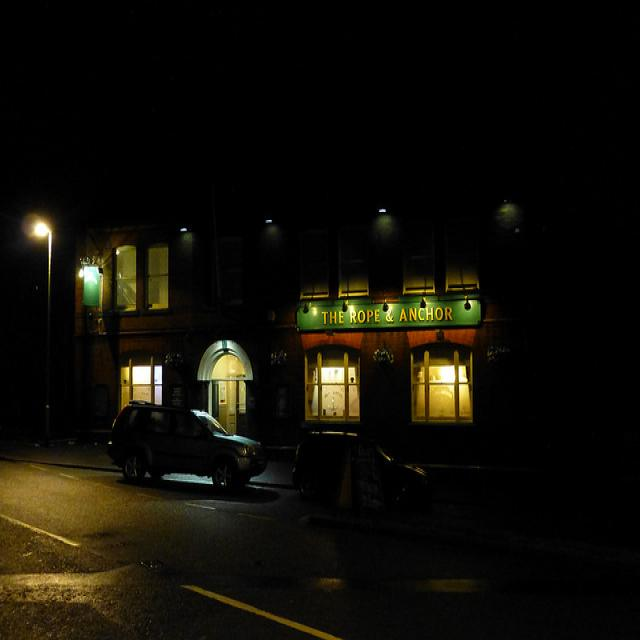Car: (103, 392, 267, 490), (296, 418, 436, 504)
